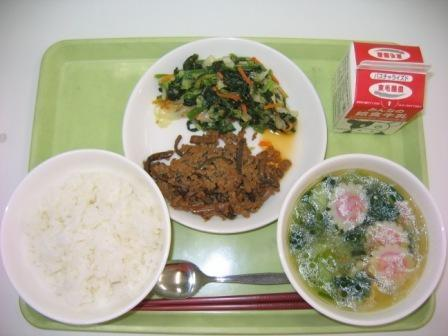Milk: (321, 40, 441, 143)
Rice: (5, 159, 166, 310)
Soups: (272, 157, 447, 326)
cooked food based on meat: (143, 131, 291, 221)
salad with sauce: (153, 53, 297, 134)
